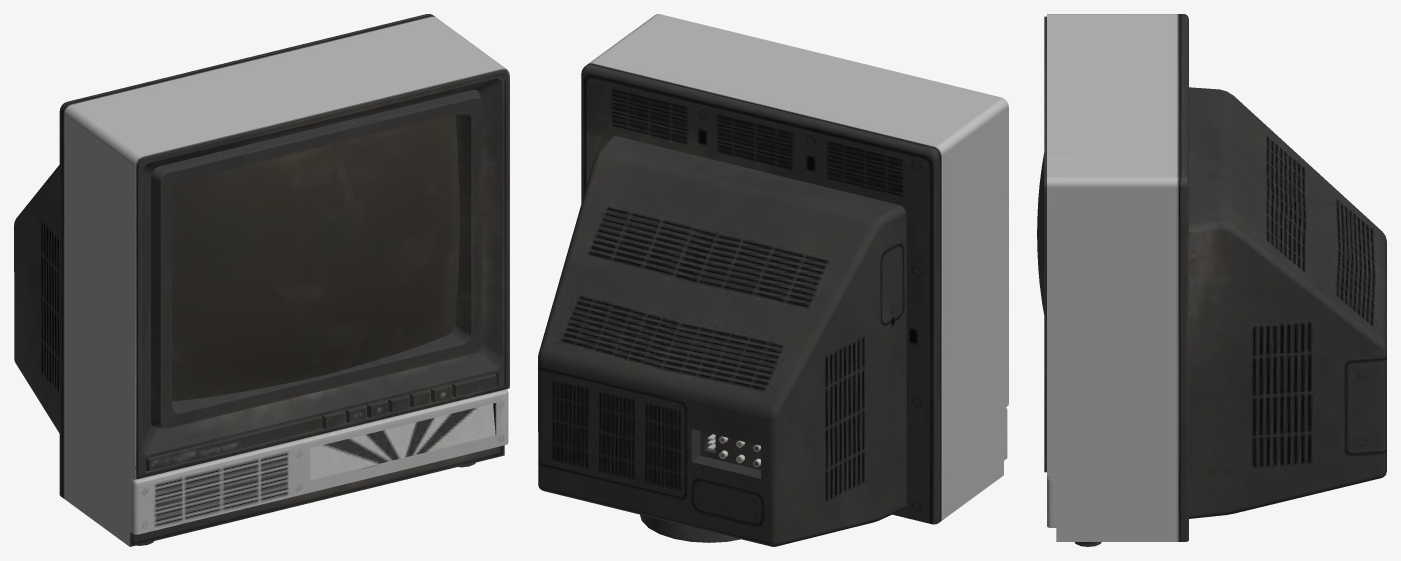
Rendered from crt_monitor.glb.
3 renders of one model, left to right at view 1: azimuth 30°, elevation 25°; view 2: azimuth 150°, elevation 25°; view 3: azimuth 270°, elevation 25°, orthographic. The views are drawn at different scales.
Parts seen in each view (by area): view 1: television_02; view 2: television_02; view 3: television_02.
Part boxes in pixels (bbox=[...]): television_02: bbox=[14, 14, 509, 546]; television_02: bbox=[538, 14, 1008, 546]; television_02: bbox=[1037, 14, 1386, 546].
Size of the model in its own units: 0.3998 by 0.4114 by 0.3502.
Materials: 1 (1 with a texture image).
